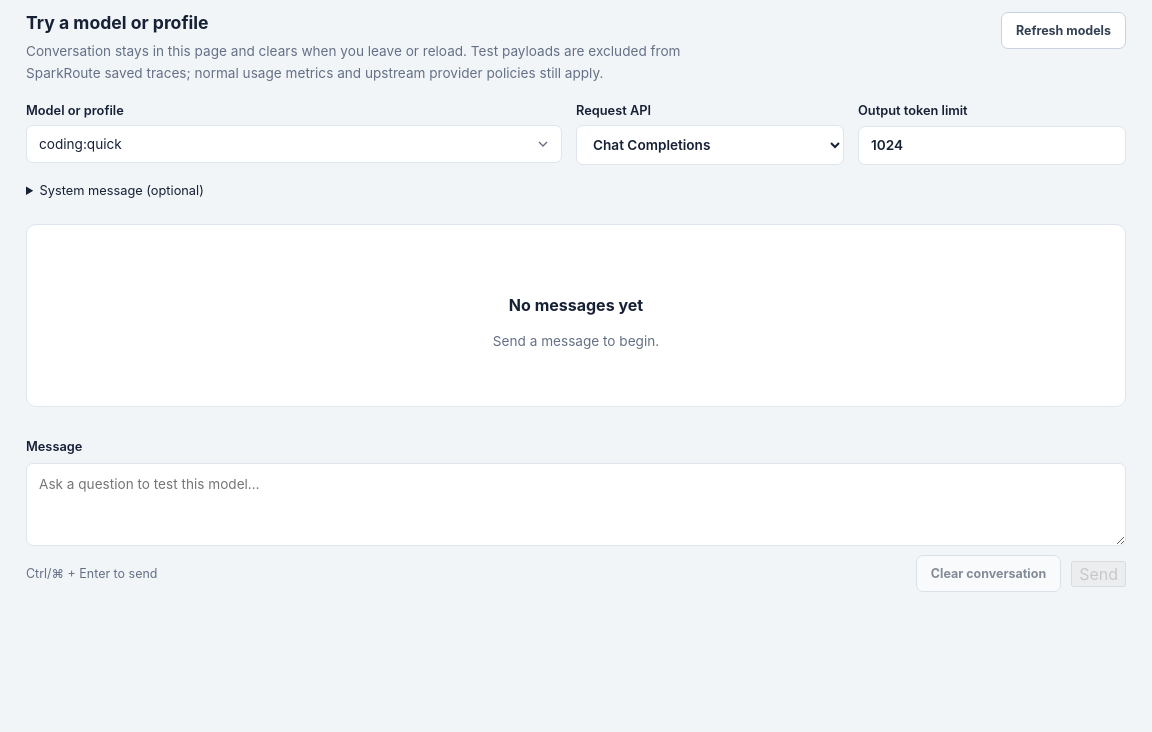
it: cancels an in-flight generation with Stop
Expected: the dropdown labelled "Model or profile" holds "coding:quick", [26, 124, 562, 162]
Type "hello" into the text box labelled "Message" at point(576, 505), box [26, 463, 1126, 546]
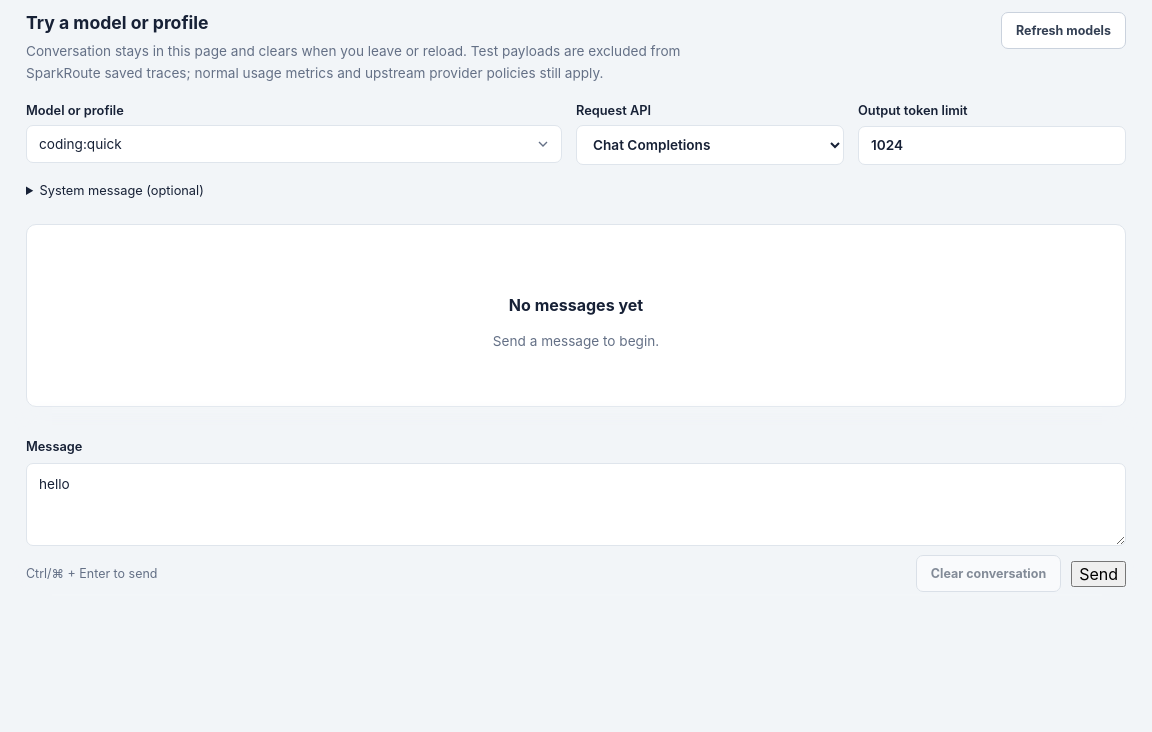
Click the button "Send" at point(1099, 574), box [1071, 561, 1126, 587]
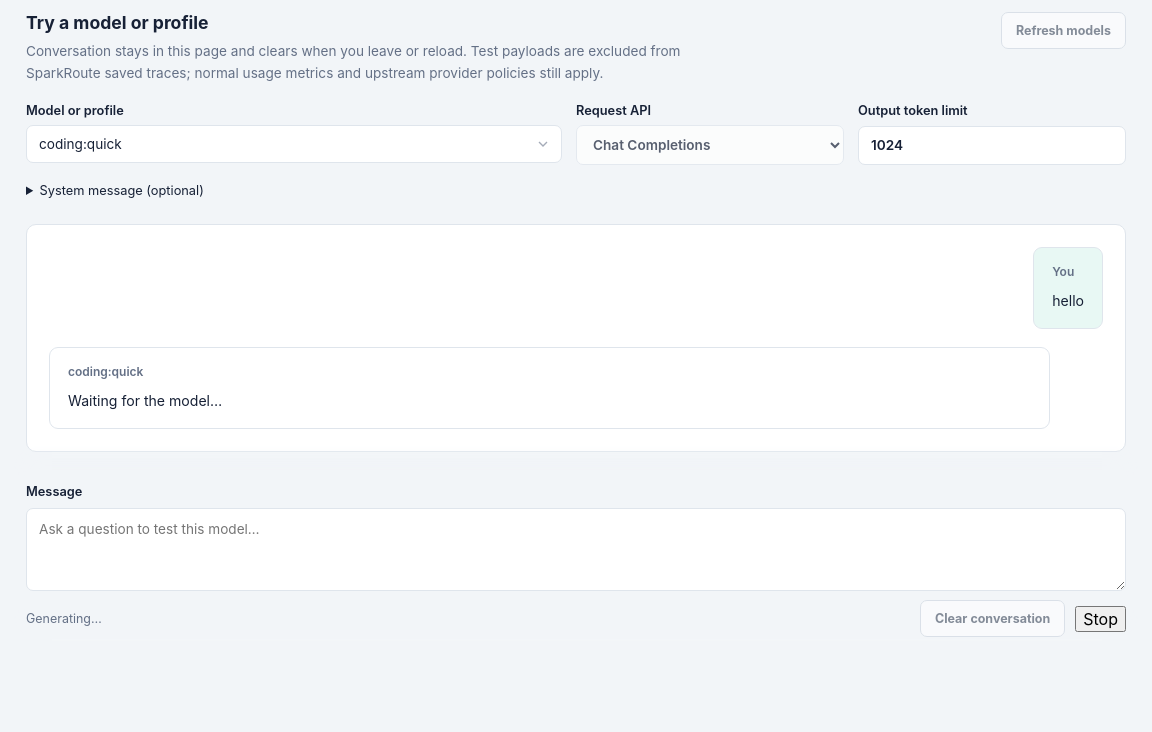
Click the button "Stop" at point(1101, 619), box [1075, 606, 1126, 632]
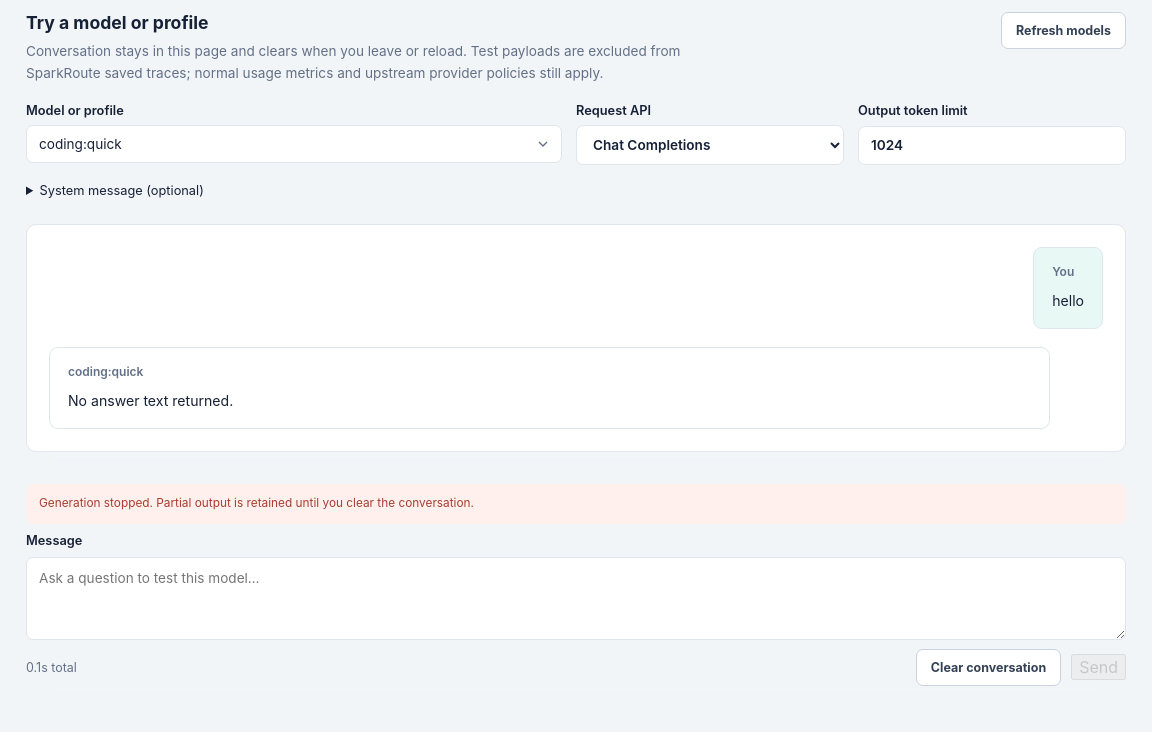
Expected: the 1st message shows "Generation stopped", [39, 496, 474, 510]
